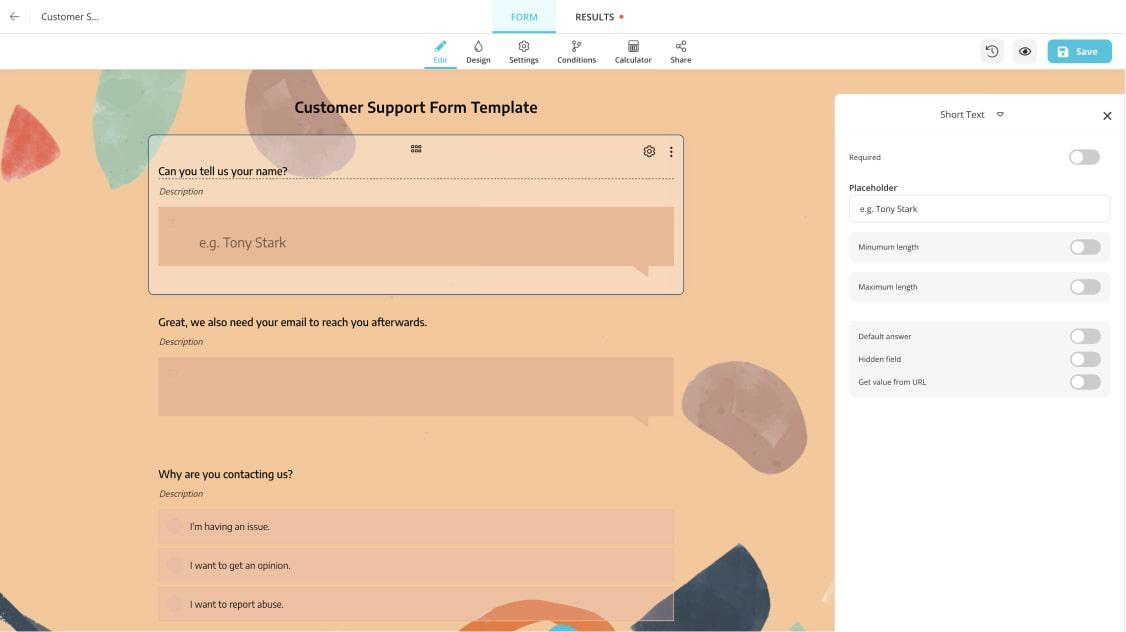button: (490, 1, 555, 33), (1049, 40, 1114, 65)
icon: (979, 40, 1008, 65), (1013, 38, 1039, 65), (7, 6, 26, 28), (567, 38, 585, 56), (433, 39, 451, 56), (672, 41, 692, 55), (642, 143, 659, 159), (628, 39, 643, 55), (471, 39, 487, 53), (518, 40, 532, 55), (669, 143, 677, 162)
input: (851, 196, 1112, 223)
label: (155, 316, 430, 334), (293, 100, 542, 119), (156, 469, 296, 484), (158, 164, 291, 179), (188, 600, 286, 612), (190, 561, 293, 572), (189, 522, 273, 534), (854, 242, 922, 256), (573, 10, 632, 26), (860, 377, 928, 389), (859, 283, 921, 294), (857, 332, 913, 344), (848, 184, 899, 196), (858, 356, 906, 367), (848, 154, 887, 165)
radio: (167, 517, 187, 536), (166, 557, 186, 576), (167, 597, 186, 616)
switch: (1066, 239, 1103, 259), (1070, 277, 1103, 299), (1071, 374, 1103, 393), (1068, 150, 1103, 167), (1071, 351, 1101, 370), (1070, 329, 1103, 346)
